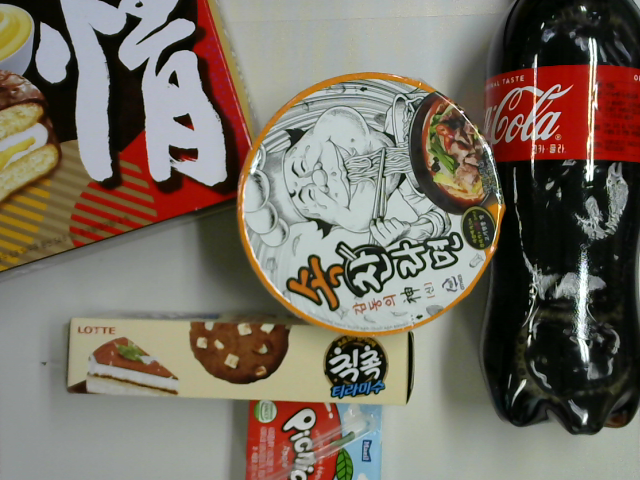Chicchok_Tiramisu: (63, 309, 419, 409)
Choco_Pie_Banana: (1, 1, 258, 280)
Coca_Cola_1.5L: (479, 1, 640, 436)
Hejangchan: (236, 68, 512, 339)
Picnic_Apple: (240, 399, 384, 480)
